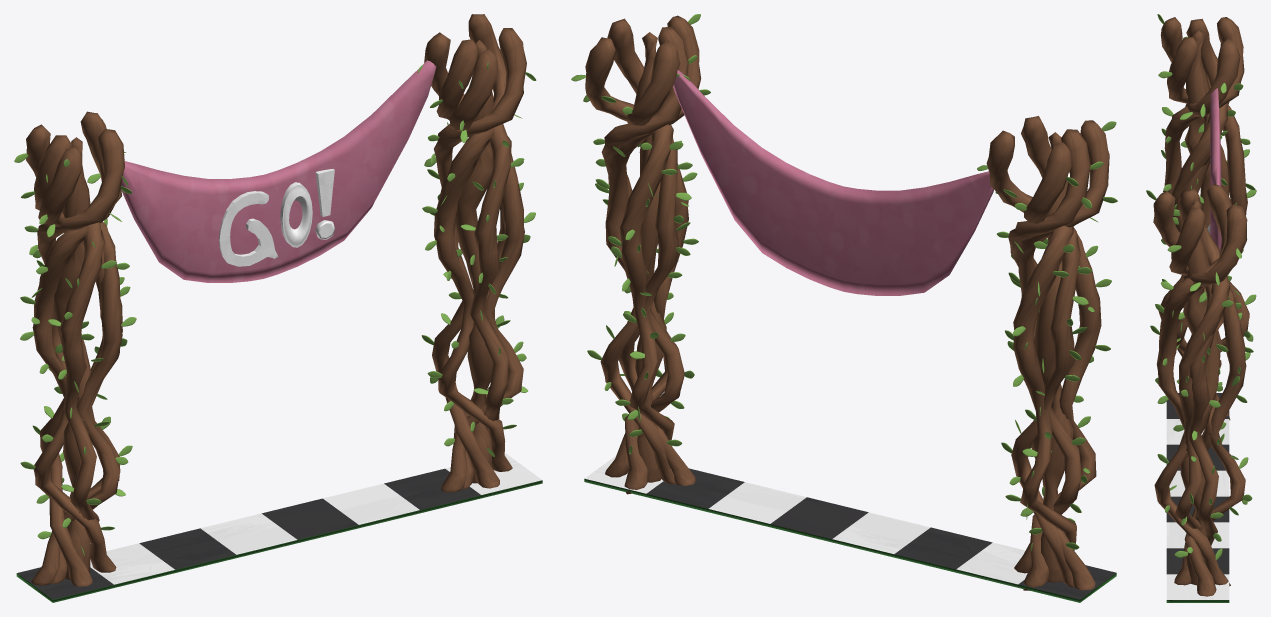
File: Finish line.fbx
3 views of the same model, side by side, from view 1: azimuth 30°, elevation 25°; view 2: azimuth 150°, elevation 25°; view 3: azimuth 270°, elevation 25° (orthographic). The views are drawn at different scales.
Visible parts, largest first — view 1: polySurface93; view 2: polySurface93; view 3: polySurface93.
Boxes of the visible parts, x1=… form: polySurface93: x1=14, y1=14, x2=542, y2=602; polySurface93: x1=571, y1=14, x2=1117, y2=602; polySurface93: x1=1146, y1=14, x2=1256, y2=602.
Size of the model in its own units: 62 by 53.36 by 13.56.
